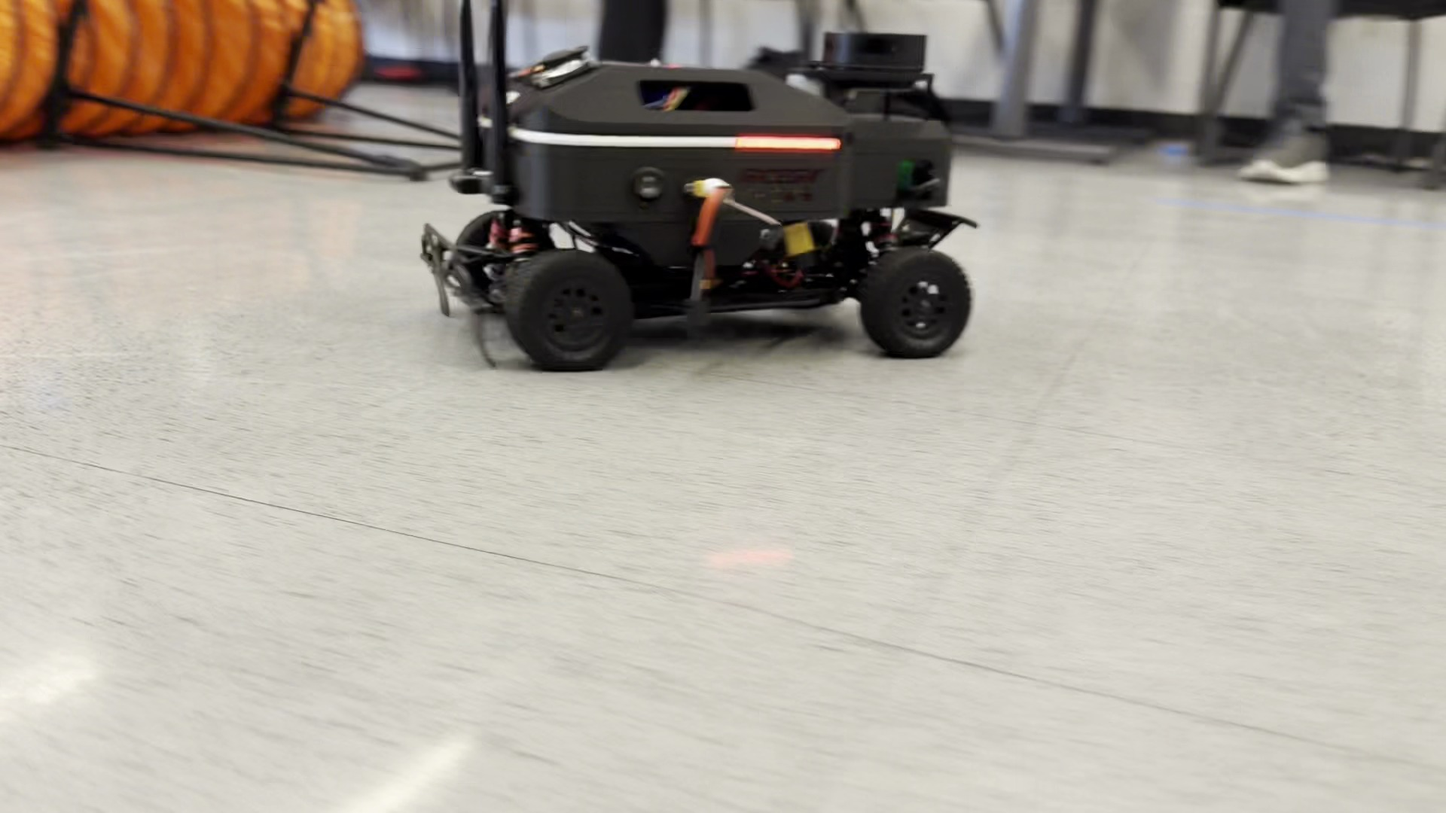racecar: (415, 0, 981, 377)
